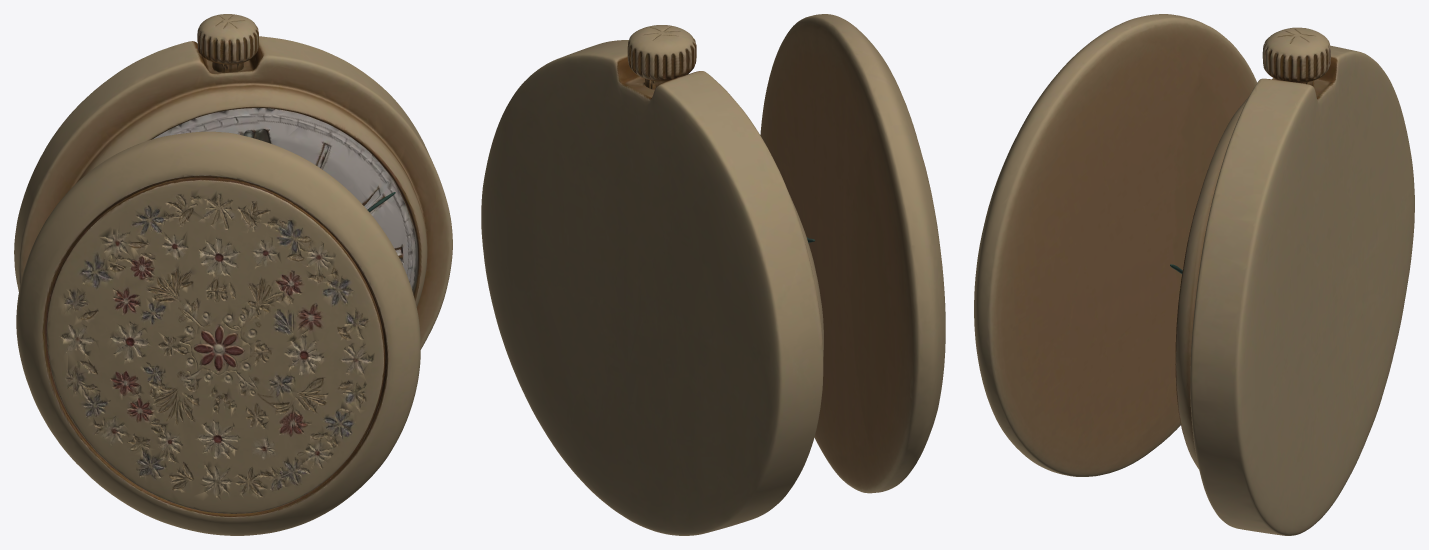
Rendered from watch.glb.
3 views of the same model, side by side, from view 1: azimuth 30°, elevation 25°; view 2: azimuth 150°, elevation 25°; view 3: azimuth 270°, elevation 25° (orthographic). The views are drawn at different scales.
Parts seen in each view (by area): view 1: tripo_node_825b013c-0cd5-47db-92f2-4f4b76b70004; view 2: tripo_node_825b013c-0cd5-47db-92f2-4f4b76b70004; view 3: tripo_node_825b013c-0cd5-47db-92f2-4f4b76b70004.
Part boxes in pixels (<box>): tripo_node_825b013c-0cd5-47db-92f2-4f4b76b70004: <box>14,14,452,535</box>; tripo_node_825b013c-0cd5-47db-92f2-4f4b76b70004: <box>481,14,945,535</box>; tripo_node_825b013c-0cd5-47db-92f2-4f4b76b70004: <box>974,14,1414,535</box>.
Bounding box in the file's own units: 0.9796 × 0.9791 × 0.8191.
1 material, 1 textured.
